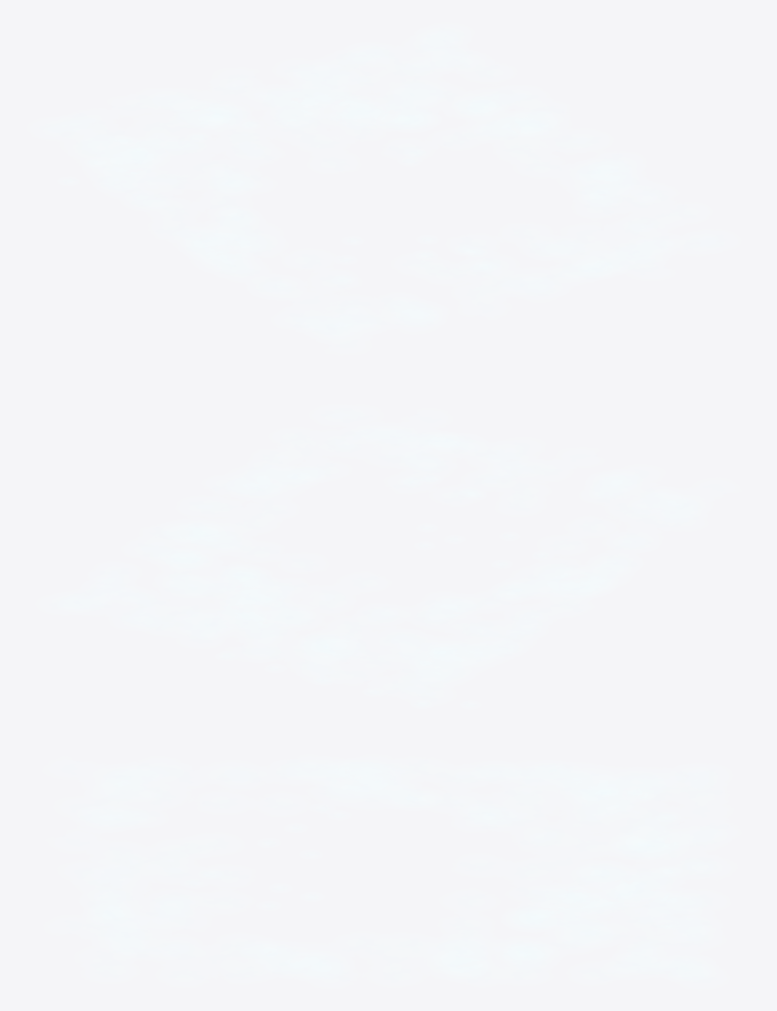
The model's file is fog_ground.glb.
The picture shows the model from 3 angles, top to bottom: view 1: azimuth 30°, elevation 25°; view 2: azimuth 150°, elevation 25°; view 3: azimuth 270°, elevation 25°; orthographic projection. The views are drawn at different scales.
Visible parts, largest first — view 1: fog_ground; view 2: fog_ground; view 3: fog_ground.
Boxes of the visible parts, bbox=[...] form: fog_ground: bbox=[43, 27, 724, 344]; fog_ground: bbox=[52, 409, 716, 707]; fog_ground: bbox=[71, 759, 727, 982].
Size of the model in its own units: 112 by 18.2 by 141.
4 materials, 4 textured.
